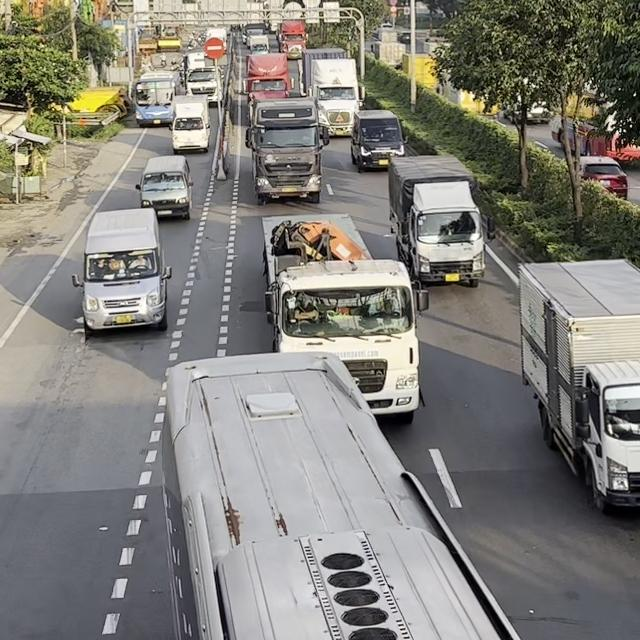bus: (160, 349, 525, 639), (134, 70, 178, 128)
car: (72, 206, 173, 339), (135, 154, 193, 220), (350, 108, 406, 172)
truck: (258, 213, 429, 422), (517, 257, 639, 514), (387, 153, 496, 287), (244, 96, 330, 205), (301, 48, 365, 137), (245, 53, 294, 110), (169, 98, 210, 153), (278, 19, 307, 59)
